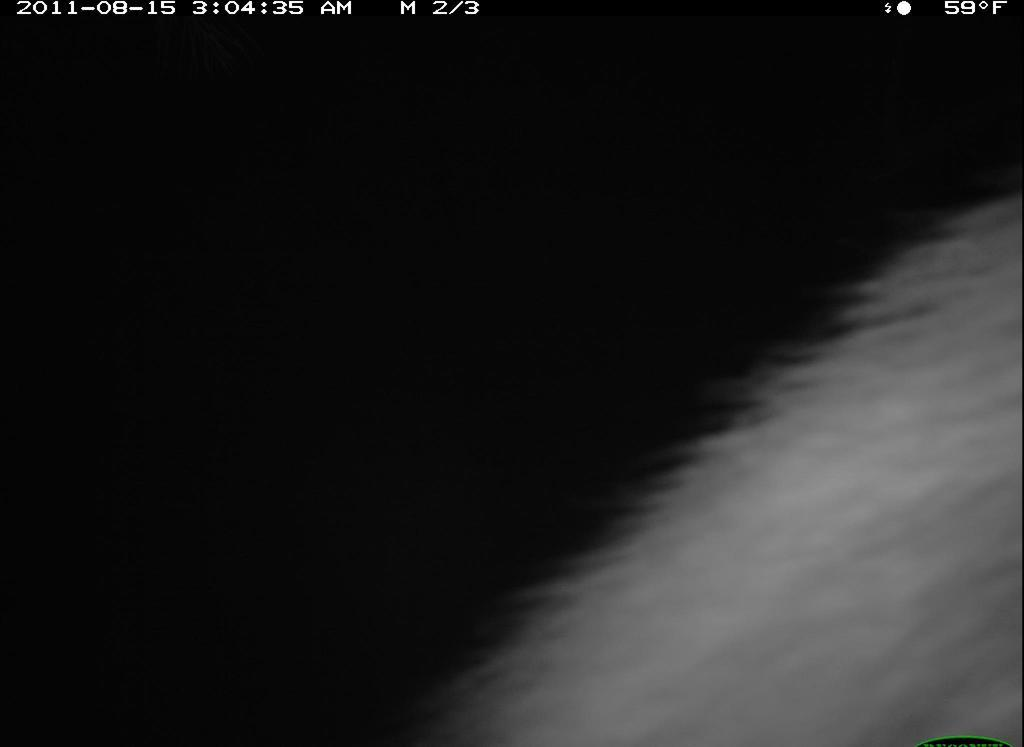raccoon: (400, 182, 1012, 738)
